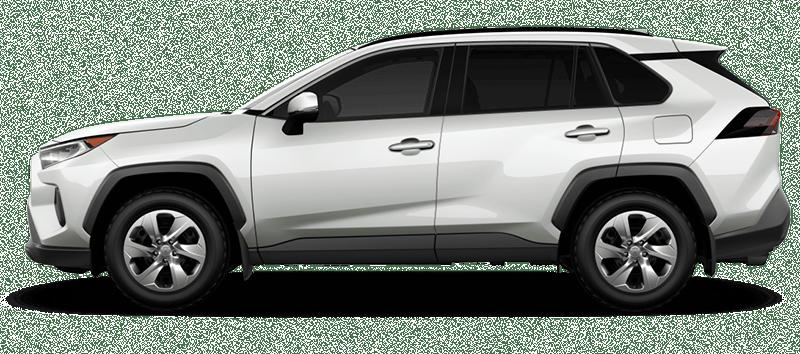Toyota RAV-4: (25, 24, 792, 315)
